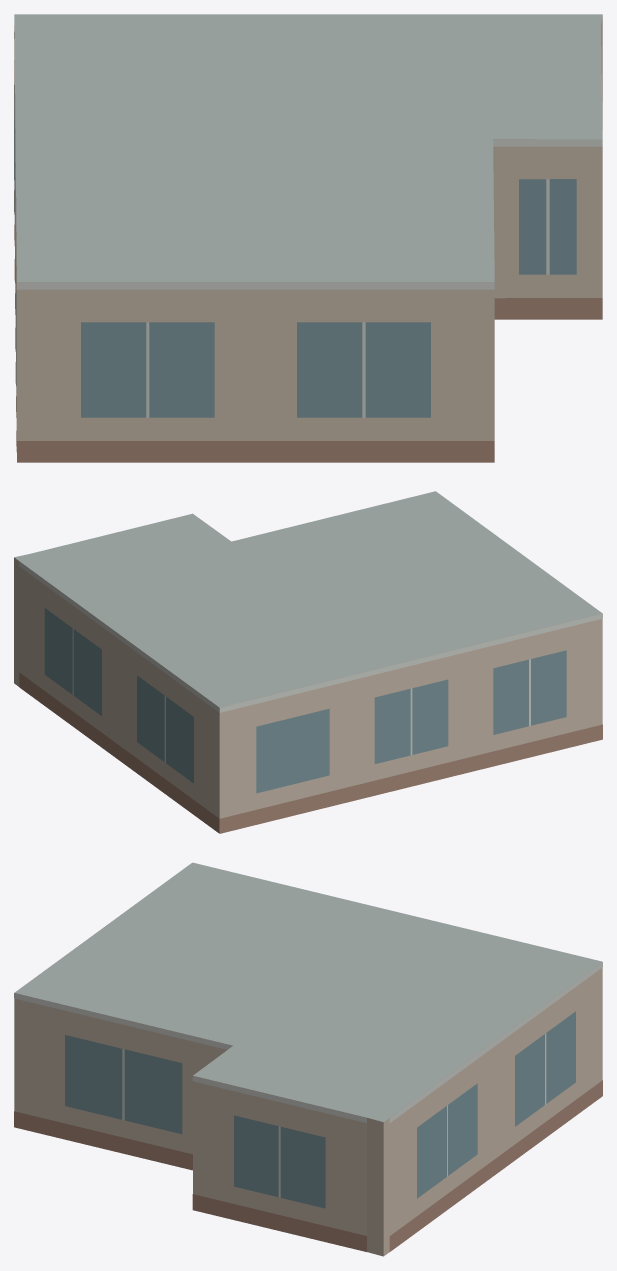
Rendered from survey-upis-32828089.glb.
The picture shows the model from 3 angles, top to bottom: view 1: azimuth 30°, elevation 25°; view 2: azimuth 150°, elevation 25°; view 3: azimuth 270°, elevation 25°; orthographic projection. The views are drawn at different scales.
Parts seen in each view (by area): view 1: survey-upis-32828089.tmp; view 2: survey-upis-32828089.tmp; view 3: survey-upis-32828089.tmp.
Part boxes in pixels (x1,y1,x2,y2): survey-upis-32828089.tmp: (14,14,602,462); survey-upis-32828089.tmp: (14,491,602,833); survey-upis-32828089.tmp: (14,862,602,1256).
Size of the model in its own units: 12.65 by 3.05 by 12.12.
